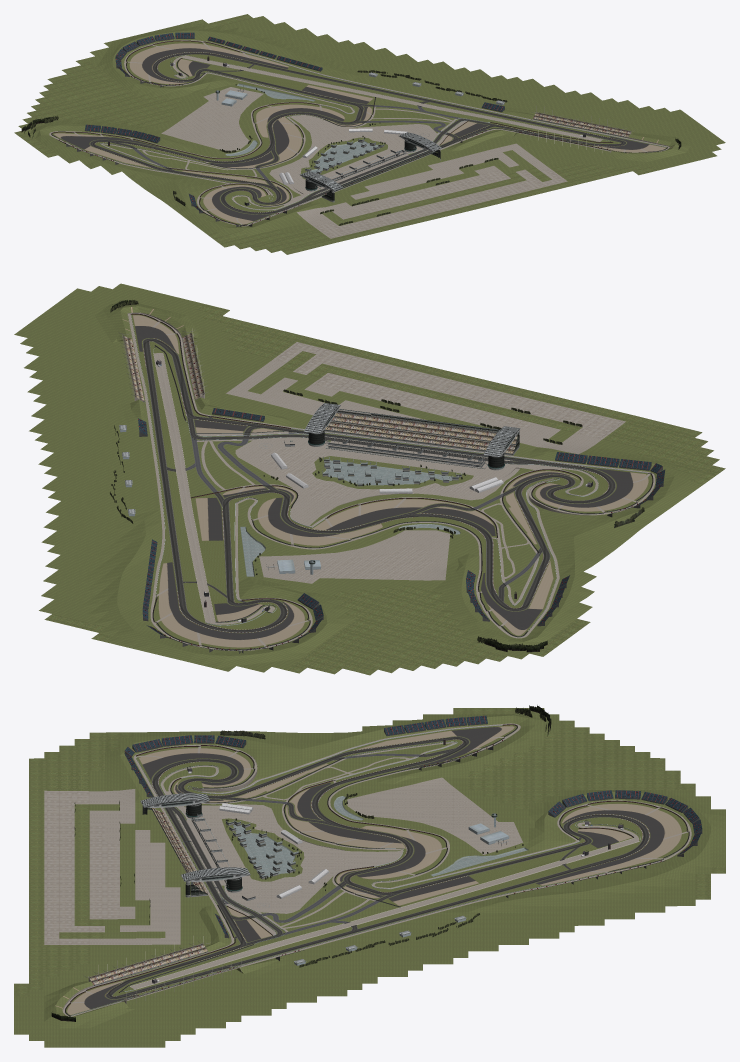
File: shanghai.glb
The picture shows the model from 3 angles, top to bottom: view 1: azimuth 30°, elevation 25°; view 2: azimuth 150°, elevation 25°; view 3: azimuth 270°, elevation 25°; orthographic projection. The views are drawn at different scales.
Bounding box in the file's own units: 1606 × 49.88 × 1424.
Materials: 77 (77 with a texture image).
